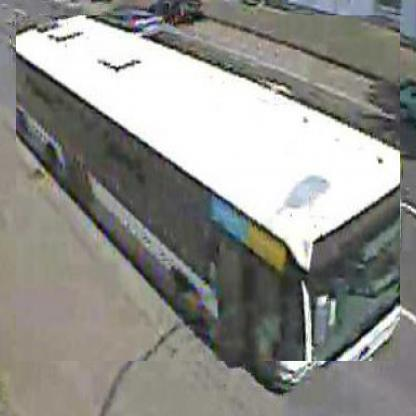bus: (17, 17, 402, 364)
